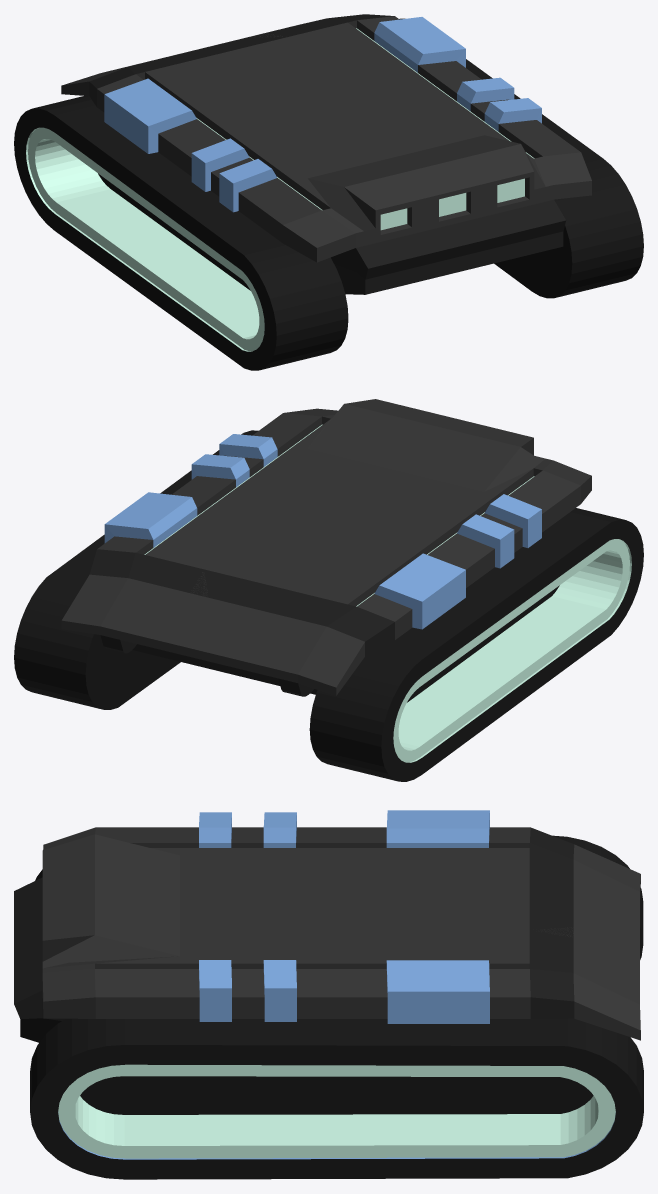
The model's file is bottomV2.fbx.
3 renders of one model, top to bottom at view 1: azimuth 30°, elevation 25°; view 2: azimuth 150°, elevation 25°; view 3: azimuth 270°, elevation 25°, orthographic. The views are drawn at different scales.
Visible parts, largest first — view 1: LaserBase.001; view 2: LaserBase.001; view 3: LaserBase.001.
Part boxes in pixels (x1,y1,x2,y2): LaserBase.001: (14, 14, 643, 370); LaserBase.001: (14, 399, 643, 781); LaserBase.001: (14, 810, 643, 1179).
Bounding box in the file's own units: 322 × 136 × 410.
